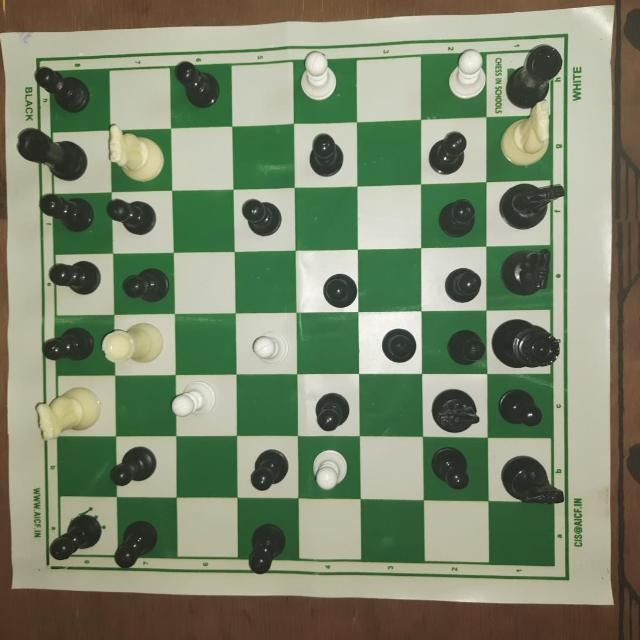black-knight: (495, 452, 570, 507), (495, 186, 570, 236), (495, 250, 553, 298), (433, 388, 485, 433)
black-pawn: (48, 512, 105, 567), (32, 65, 93, 114), (39, 189, 97, 239), (113, 515, 162, 569), (245, 523, 293, 575), (175, 62, 219, 113), (107, 445, 158, 489), (423, 131, 469, 179), (43, 323, 95, 365), (105, 196, 160, 234), (50, 261, 104, 297), (441, 321, 481, 369), (304, 133, 341, 183), (500, 384, 542, 428), (313, 388, 354, 433), (249, 448, 290, 492), (126, 265, 167, 307), (434, 199, 479, 237), (431, 449, 471, 491), (240, 197, 285, 234), (445, 266, 485, 306), (379, 329, 419, 367), (322, 271, 354, 311)
black-queen: (493, 319, 565, 375)
black-rook: (15, 125, 96, 179), (500, 45, 562, 109)
white-knight: (36, 380, 110, 436), (495, 101, 556, 167), (106, 127, 161, 184)
white-pawn: (298, 56, 343, 110), (307, 446, 352, 494), (171, 380, 216, 424), (449, 51, 487, 101), (248, 326, 290, 370)
white-rook: (102, 323, 163, 375)
